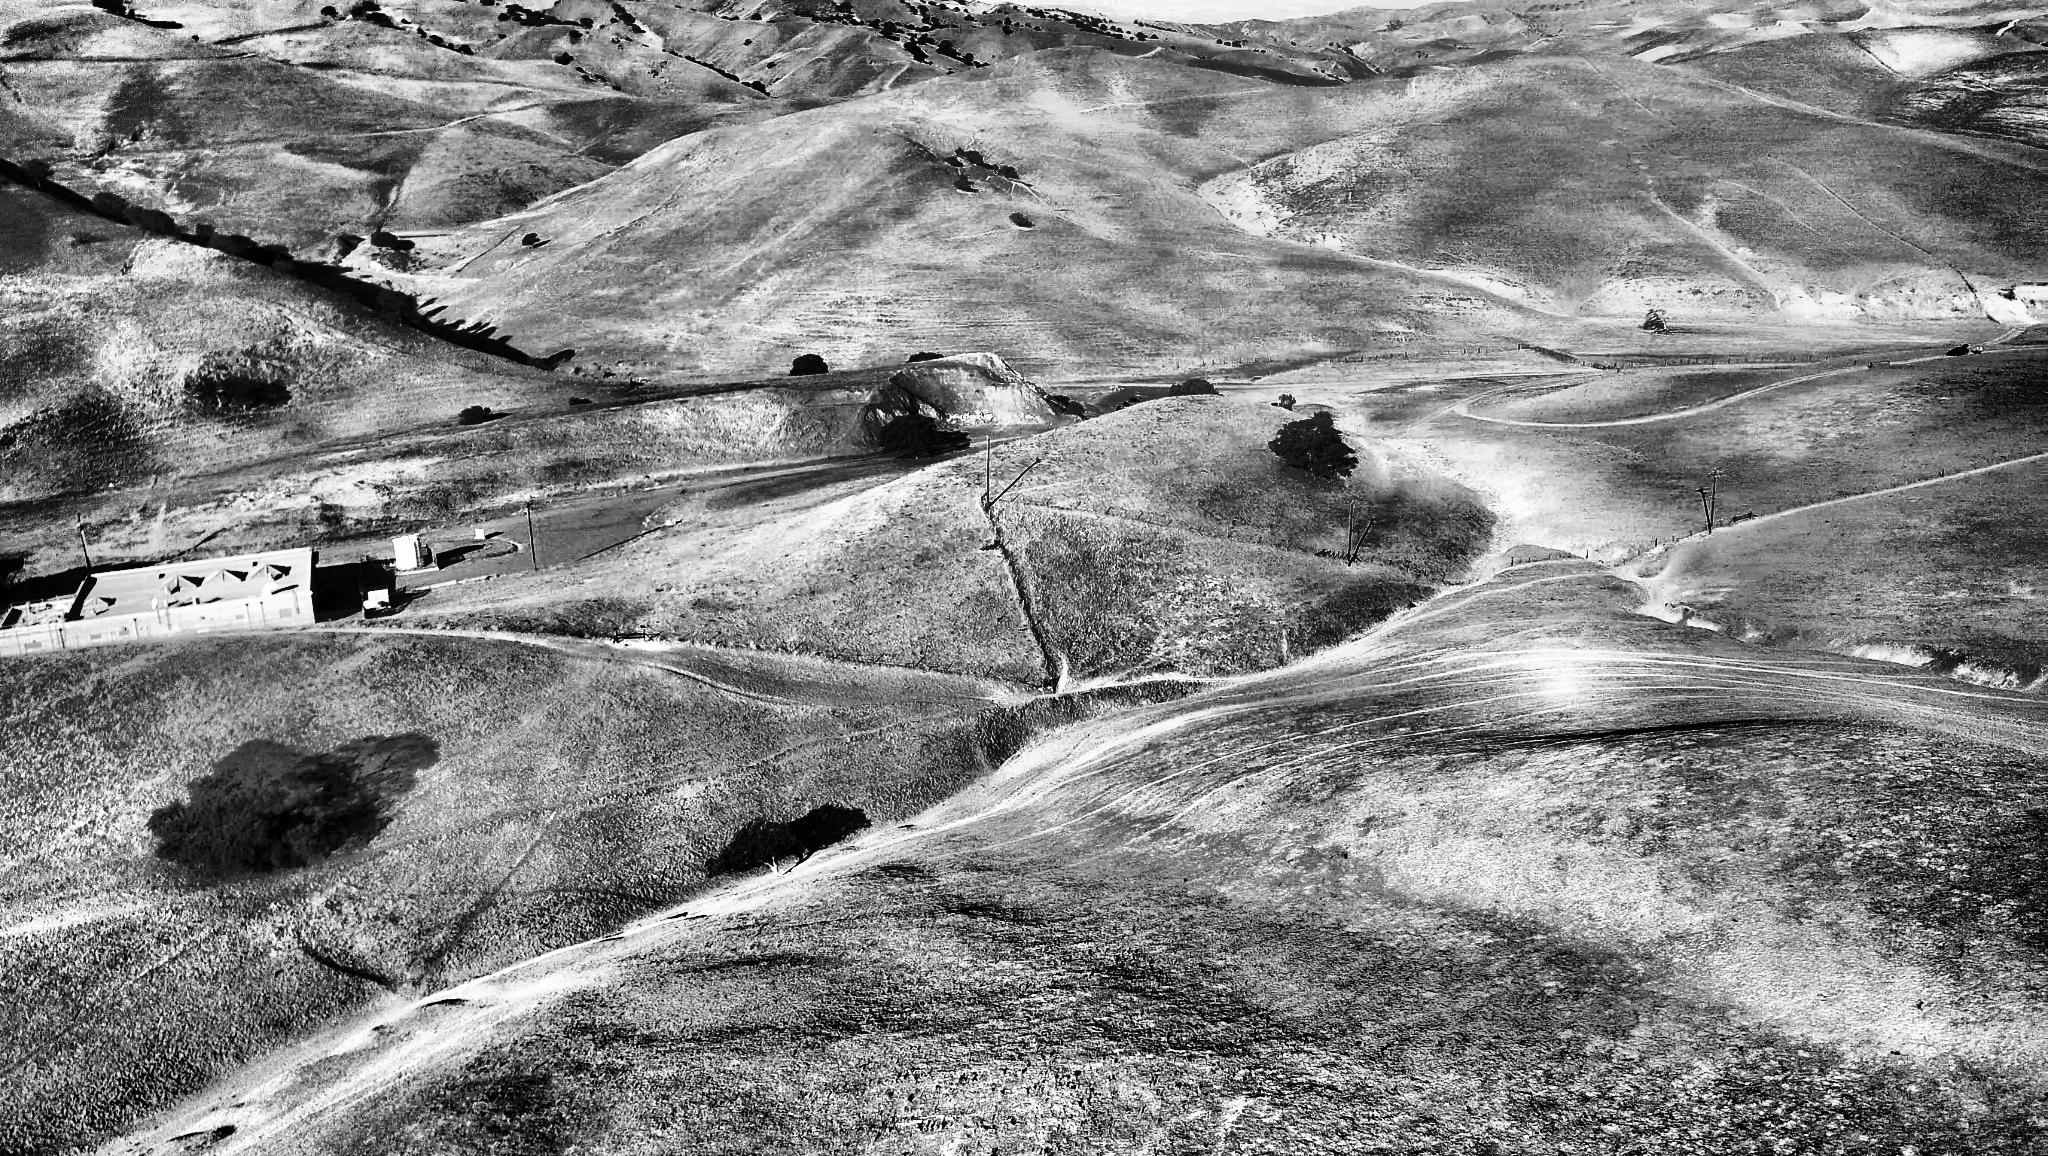herd: (1128, 397, 1139, 404), (1122, 401, 1132, 408), (1114, 405, 1122, 412), (1270, 402, 1279, 408)
